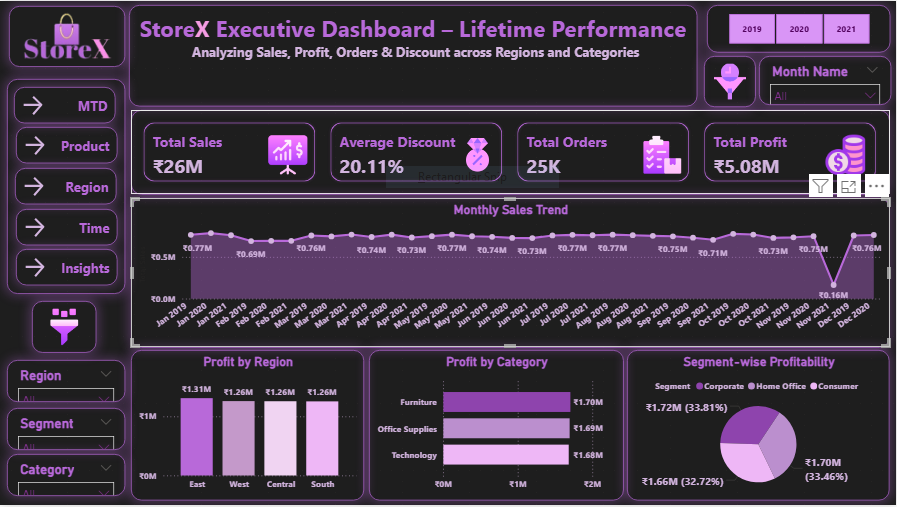

What the dashboard file says about the page in this screenshot:
{"tool":"powerbi","page":{"name":"Executive Overview","canvas":[1280,720],"ordinal":0},"visuals":[{"type":"textbox","box":[184.7,5.8,811.6,145.5],"z":0},{"type":"shape","box":[10.2,112,168.7,306.9],"z":1000},{"type":"cardVisual","fields":{"Data":["Sales_Data.Total Sales","Sales_Data.Average Discount","Sales_Data.Total Orders","Sales_Data.Total Profit"]},"box":[187.6,155.6,1083.6,120.7],"z":6000},{"type":"lineChart","title":"Monthly Sales Trend","fields":{"Y":["Sales_Data.Total Sales"],"Category":["Calender.Month_Year"]},"box":[187.6,280.7,1083.6,213.8],"z":7000},{"type":"clusteredBarChart","title":"Profit by Category","fields":{"Y":["Sales_Data.Total Profit"],"Category":["Sales_Data.Category"]},"box":[526.5,498.9,363.6,215.3],"z":8000},{"type":"pieChart","title":"Segment-wise Profitability","fields":{"Category":["Sales_Data.Segment"],"Y":["Sales_Data.Total Profit"]},"box":[896,498.9,375.3,215.3],"z":9000},{"type":"slicer","fields":{"Values":["Sales_Data.Segment"]},"box":[10.2,581.8,168.7,59.6],"z":10000},{"type":"slicer","fields":{"Values":["Sales_Data.Category"]},"box":[10.2,647.3,168.7,59.6],"z":11000},{"type":"image","box":[45.1,429.1,91.6,74.2],"z":12000},{"type":"slicer","fields":{"Values":["Sales_Data.Region"]},"box":[10.2,513.5,168.7,59.6],"z":13000},{"type":"image","box":[13.1,7.3,165.8,87.3],"z":15000},{"type":"slicer","fields":{"Values":["Calender.Year"]},"box":[1009.5,5.8,261.8,68.4],"z":16000},{"type":"slicer","fields":{"Values":["Calender.Month Name"]},"box":[1083.6,78.5,189.1,69.8],"z":17000},{"type":"image","box":[1005.1,78.5,74.2,72.7],"z":18000},{"type":"actionButton","box":[20.4,122.2,145.5,52.4],"z":18001},{"type":"actionButton","box":[23.3,180.4,145.5,52.4],"z":18002},{"type":"actionButton","box":[21.8,238.5,145.5,52.4],"z":18003},{"type":"actionButton","box":[23.3,296.7,145.5,52.4],"z":18004},{"type":"actionButton","box":[23.3,354.9,145.5,52.4],"z":18005},{"type":"clusteredColumnChart","title":"Profit by Region","fields":{"Category":["Sales_Data.Region"],"Y":["Sales_Data.Total Profit"]},"box":[187.6,498.9,333.1,215.3],"z":18006}]}

Visuals, with their boxes in screenshot pixels (x1, y1, x2, y2), scaled from the page's 1280x720 canvas onto the 897x507 screenshot:
textbox: box(129, 4, 698, 107)
shape: box(7, 79, 125, 295)
cardVisual - Sales_Data.Total Sales x Sales_Data.Average Discount: box(131, 110, 891, 195)
"Monthly Sales Trend" lineChart: box(131, 198, 891, 348)
"Profit by Category" clusteredBarChart: box(369, 351, 624, 503)
"Segment-wise Profitability" pieChart: box(628, 351, 891, 503)
slicer - Sales_Data.Segment: box(7, 410, 125, 452)
slicer - Sales_Data.Category: box(7, 456, 125, 498)
image: box(32, 302, 96, 354)
slicer - Sales_Data.Region: box(7, 362, 125, 404)
image: box(9, 5, 125, 67)
slicer - Calender.Year: box(707, 4, 891, 52)
slicer - Calender.Month Name: box(759, 55, 892, 104)
image: box(704, 55, 756, 106)
actionButton: box(14, 86, 116, 123)
actionButton: box(16, 127, 118, 164)
actionButton: box(15, 168, 117, 205)
actionButton: box(16, 209, 118, 246)
actionButton: box(16, 250, 118, 287)
"Profit by Region" clusteredColumnChart: box(131, 351, 365, 503)
